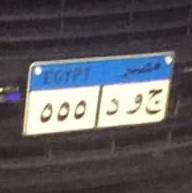5: (48, 98, 74, 126), (71, 92, 89, 124), (32, 100, 53, 127)
ج: (143, 80, 169, 113)
د: (102, 88, 124, 116)
و: (125, 84, 148, 116)
